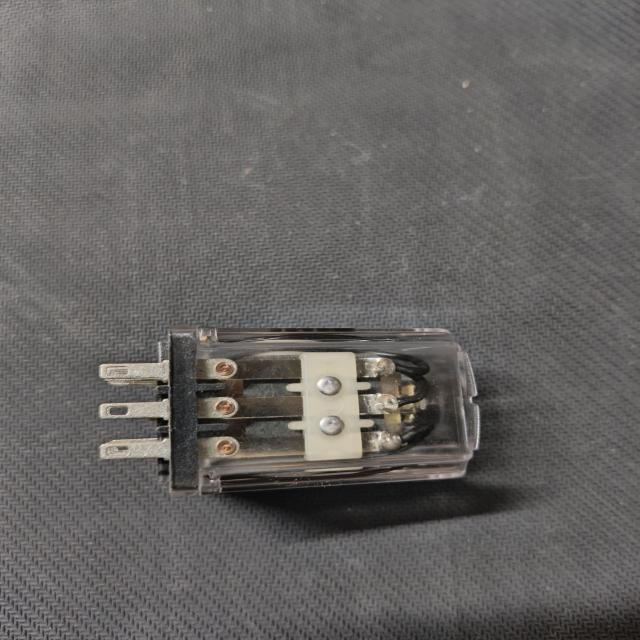relay: (98, 325, 487, 510)
